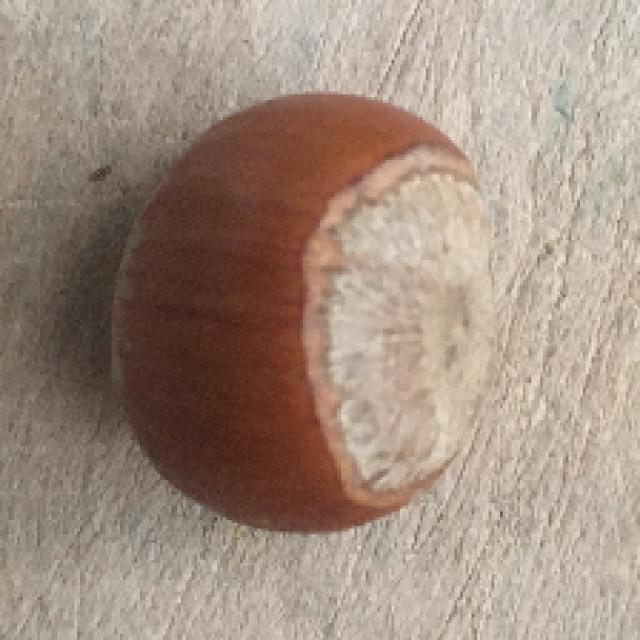qualityHazelnut: (112, 86, 497, 536)
